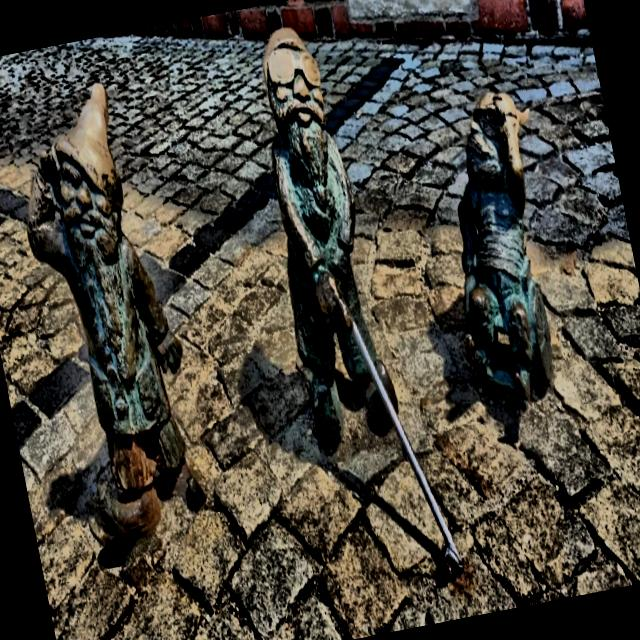Gluchak: (27, 84, 210, 541)
Slepak: (263, 28, 464, 588)
W-Skers: (458, 90, 555, 404)
